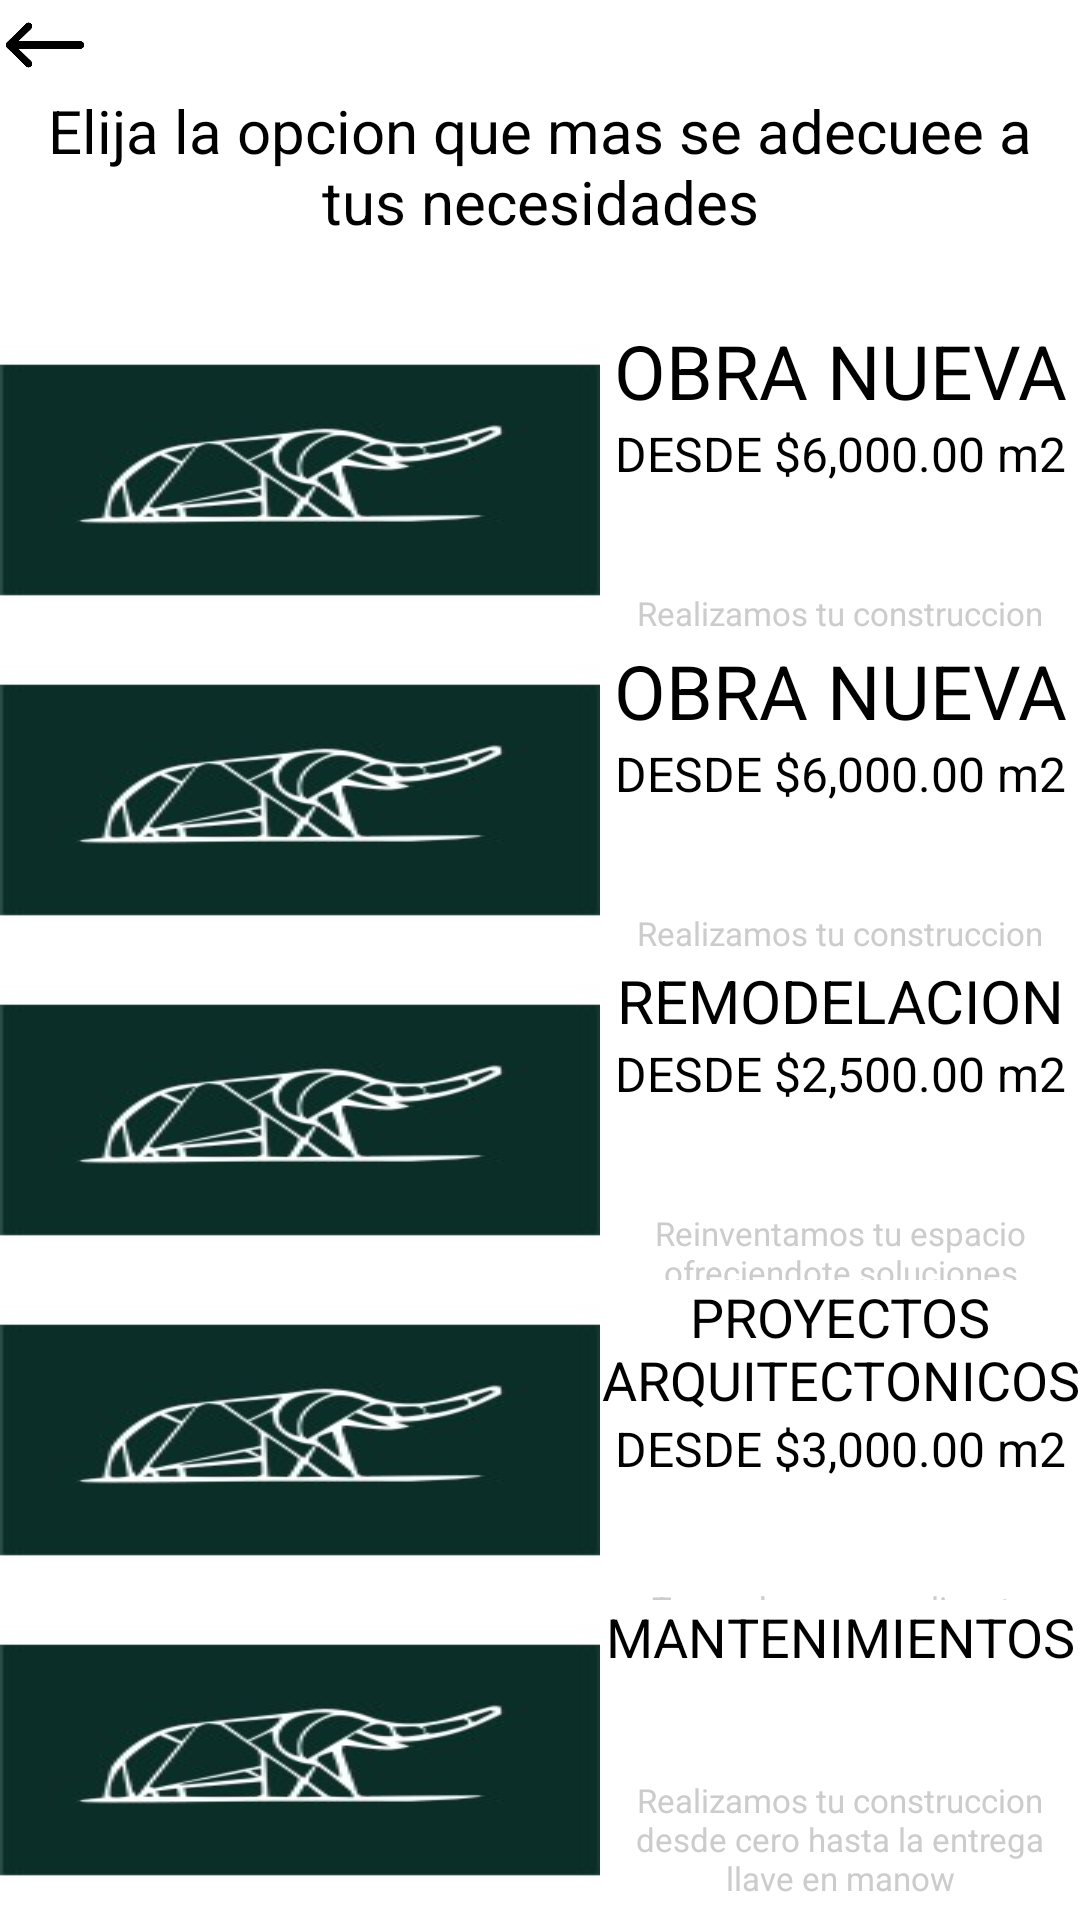

Locate icon controls on the screen. Image size 1080w x 1920h, boxes as (x1, y1, x2, y2).
flecha: (6, 22, 84, 68)
